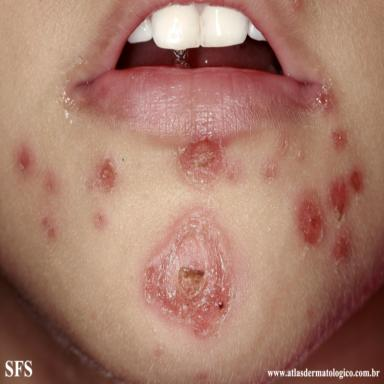Impetigo: (143, 207, 242, 343), (292, 165, 366, 272), (176, 135, 245, 186), (259, 130, 291, 186), (87, 155, 121, 194), (313, 75, 339, 114), (14, 143, 37, 181), (329, 127, 348, 152), (93, 211, 109, 230), (295, 147, 305, 164)
